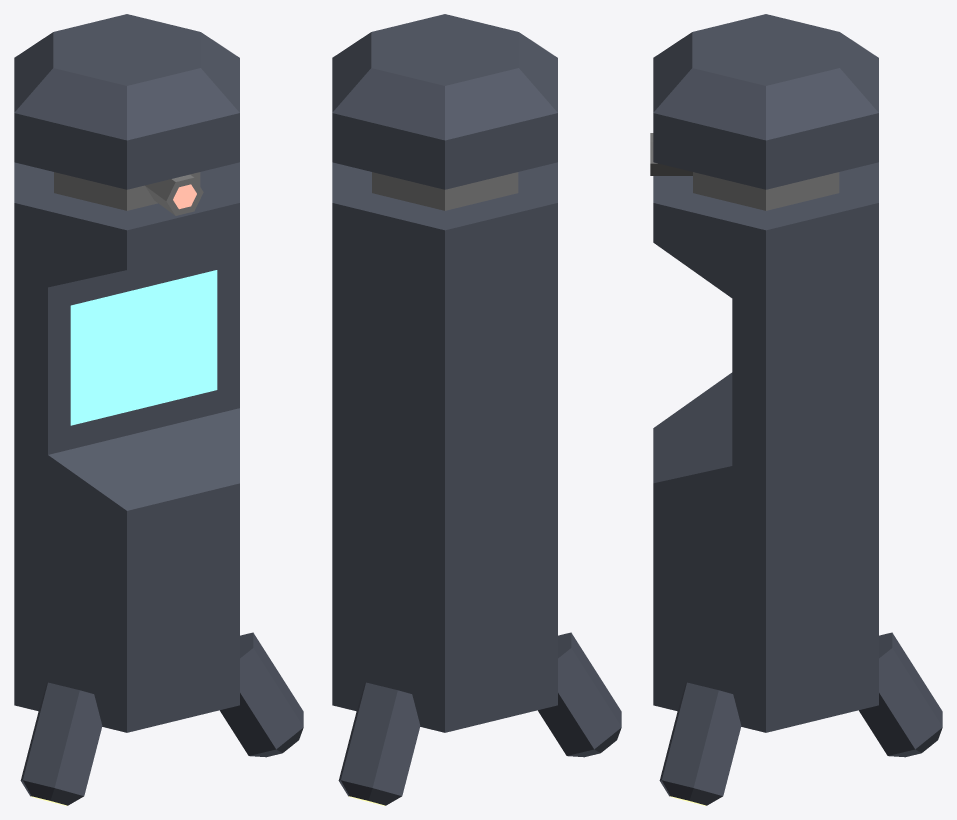
File: trashcan_robot.fbx
3 renders of one model, left to right at view 1: azimuth 30°, elevation 25°; view 2: azimuth 150°, elevation 25°; view 3: azimuth 270°, elevation 25°, orthographic.
Visible parts, largest first — view 1: body, eye; view 2: body, eye; view 3: body, eye.
Boxes of the visible parts, box(x1,y1,x2,y2) form: body: box(14, 14, 303, 805); eye: box(54, 172, 203, 215); body: box(332, 14, 621, 805); eye: box(372, 172, 518, 210); body: box(653, 14, 942, 805); eye: box(650, 133, 839, 210).
Size of the model in its own units: 124 by 297 by 112.
